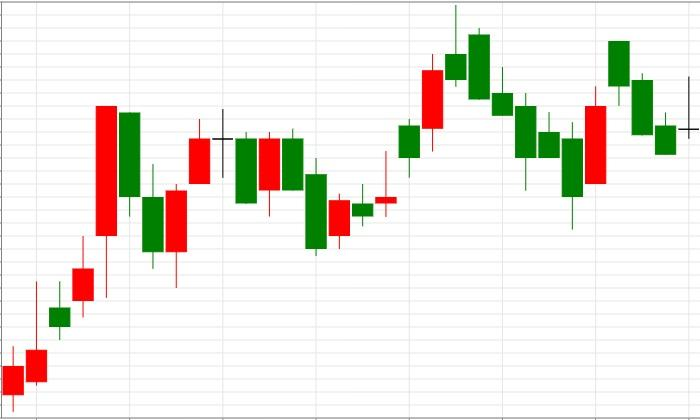evening_star_fall: (141, 110, 258, 288)
